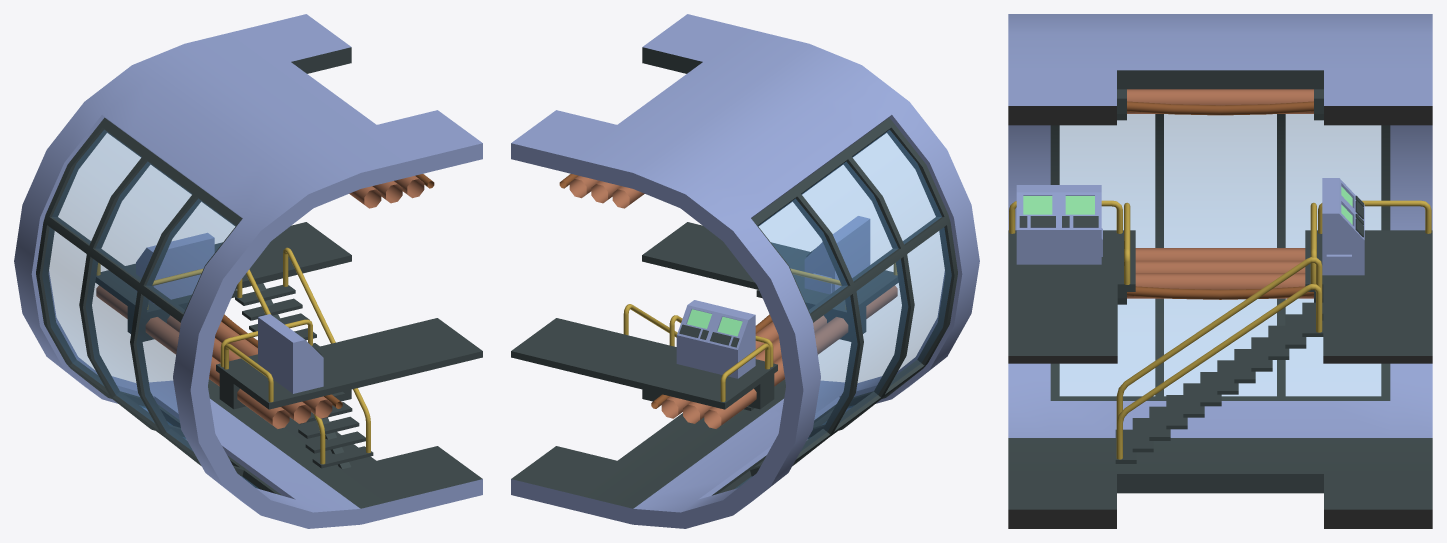
Rendered from Block_mid_05.fbx.
The picture shows the model from 3 angles, left to right: view 1: azimuth 30°, elevation 25°; view 2: azimuth 150°, elevation 25°; view 3: azimuth 270°, elevation 25°; orthographic projection. The views are drawn at different scales.
Parts seen in each view (by area): view 1: Circle.012; view 2: Circle.012; view 3: Circle.012.
Part boxes in pixels (box(x1,y1,x2,y2)): Circle.012: box(14, 14, 482, 528); Circle.012: box(511, 14, 979, 528); Circle.012: box(1008, 14, 1432, 528).
Size of the model in its own units: 9.57 by 11 by 10.
